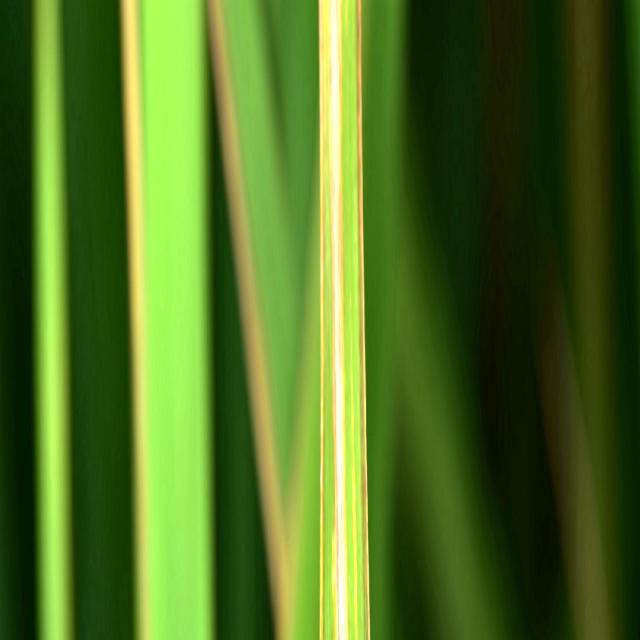BLB: (327, 0, 349, 640)
